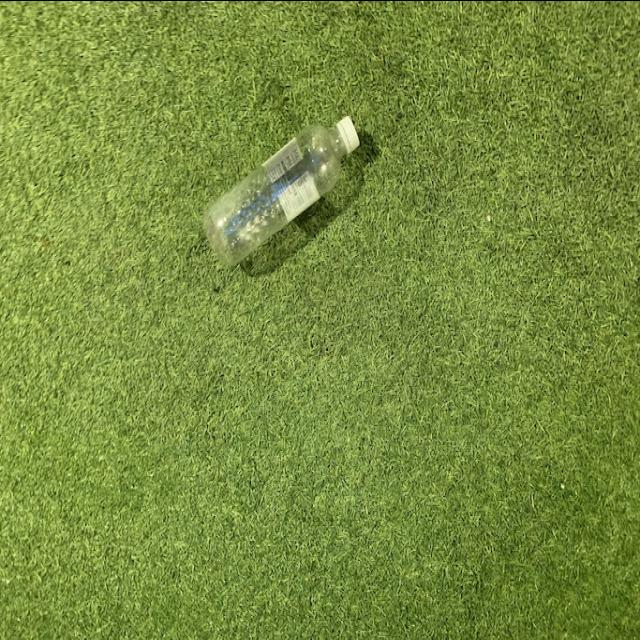PET: (202, 112, 360, 268)
